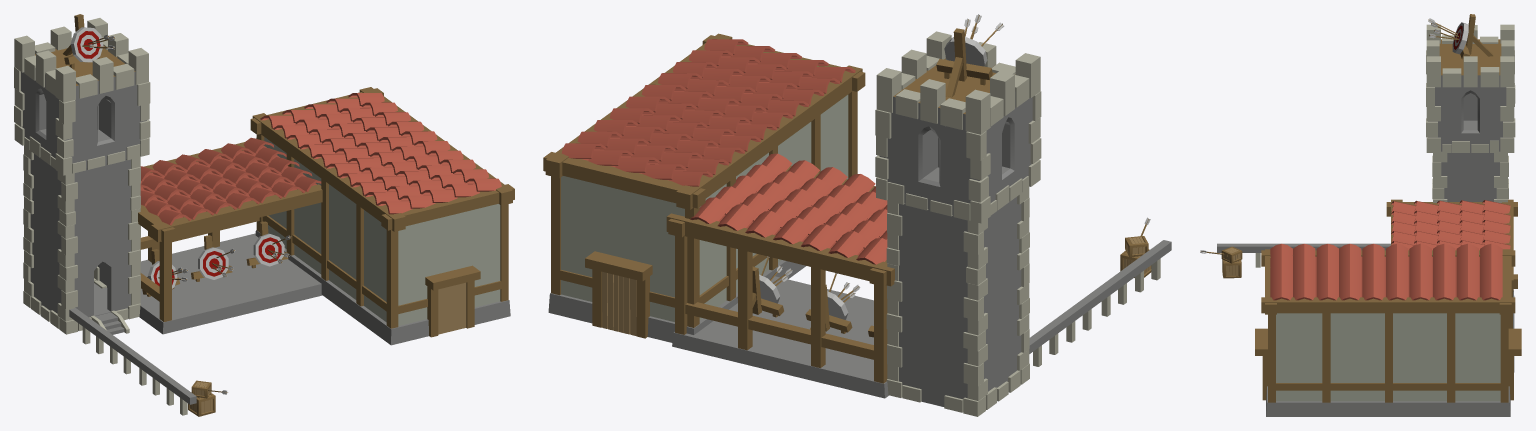
Rendered from Archery_SecondAge_Level2.glb.
The picture shows the model from 3 angles, left to right: view 1: azimuth 30°, elevation 25°; view 2: azimuth 150°, elevation 25°; view 3: azimuth 270°, elevation 25°; orthographic projection. The views are drawn at different scales.
Parts seen in each view (by area): view 1: Archery_SecondAge_Level2; view 2: Archery_SecondAge_Level2; view 3: Archery_SecondAge_Level2.
Boxes of the visible parts, <box> form: Archery_SecondAge_Level2: <box>14,14,514,416</box>; Archery_SecondAge_Level2: <box>543,14,1171,416</box>; Archery_SecondAge_Level2: <box>1200,14,1521,416</box>.
Bounding box in the file's own units: 1.93 × 1.5 × 1.66.
Materials: 1 (1 with a texture image).
